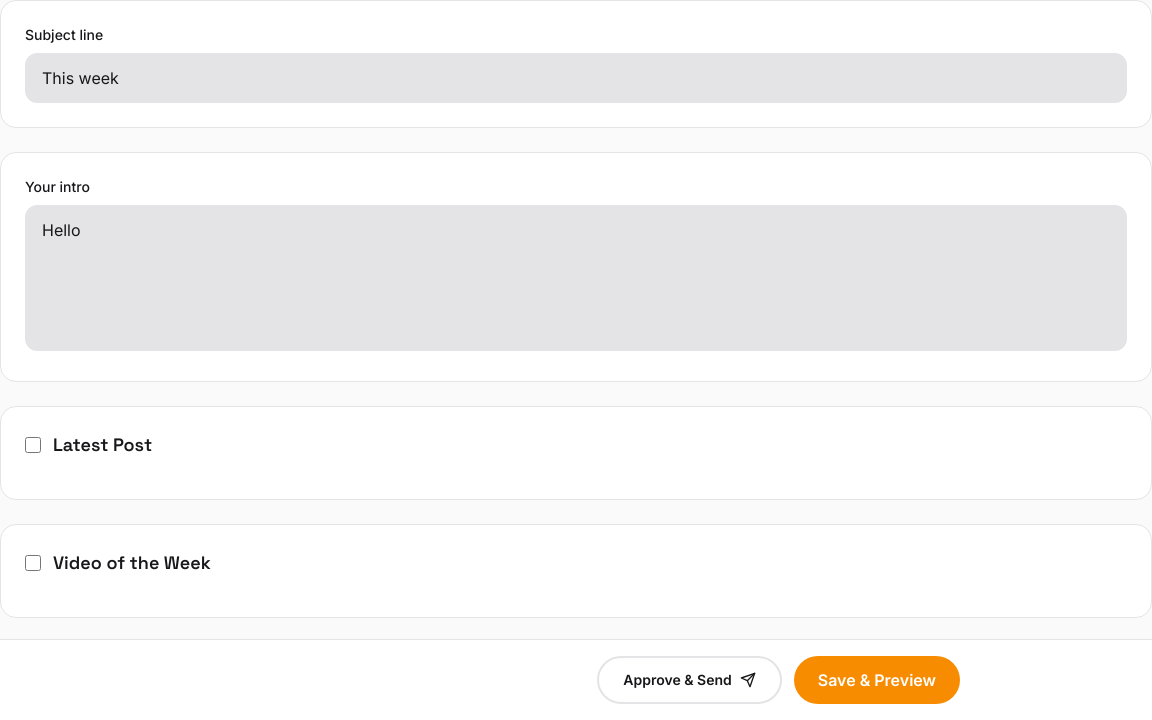
Test: NewsletterEditForm: Approve & Send › if the save fails, nothing is sent and no confirmation appears
Replace the text in the text box showing "Hello" with "Changed" at (576, 278), box [25,205,1127,351]
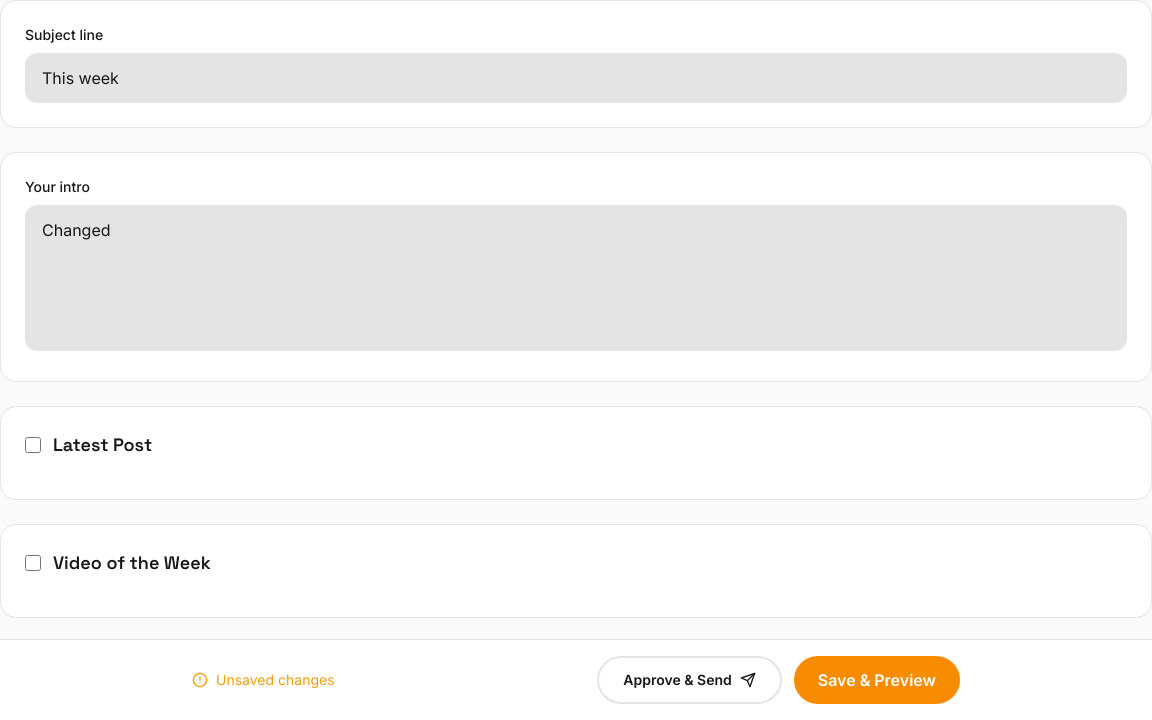
Click the button "Approve & Send" at (690, 680), box [597,656,782,704]
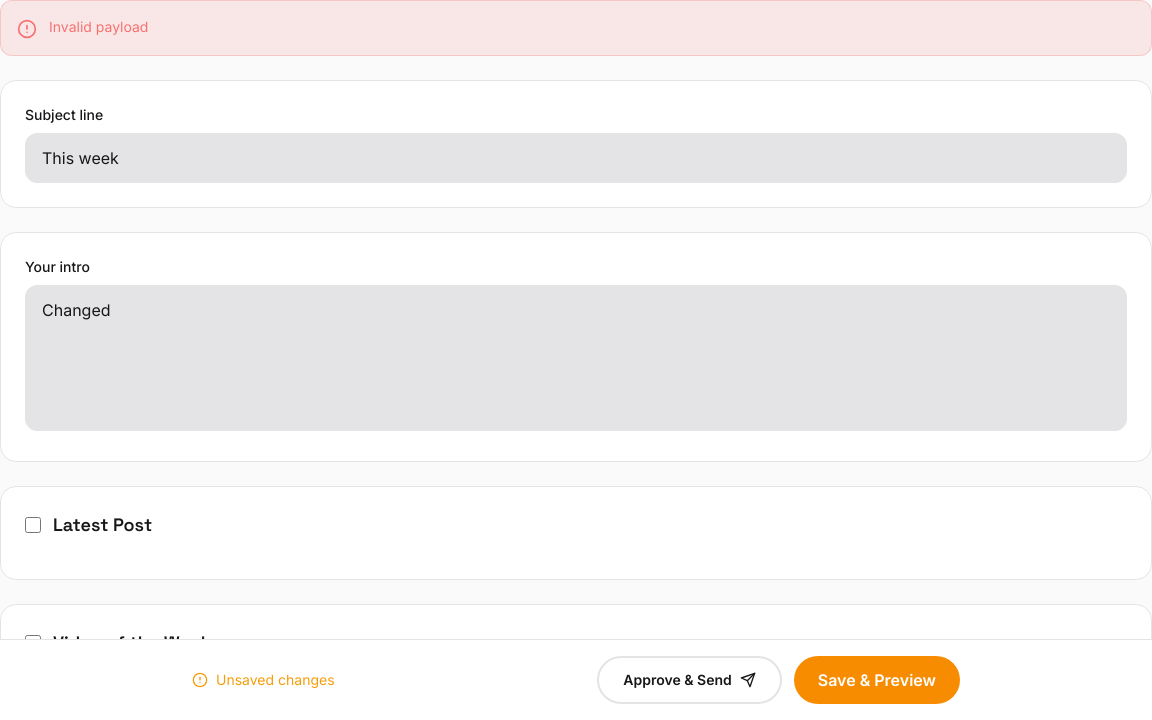
Expected: the text "Unsaved changes" is shown, [192,670,335,690]
Expected: the text "Invalid payload" is shown, [49,17,148,37]
